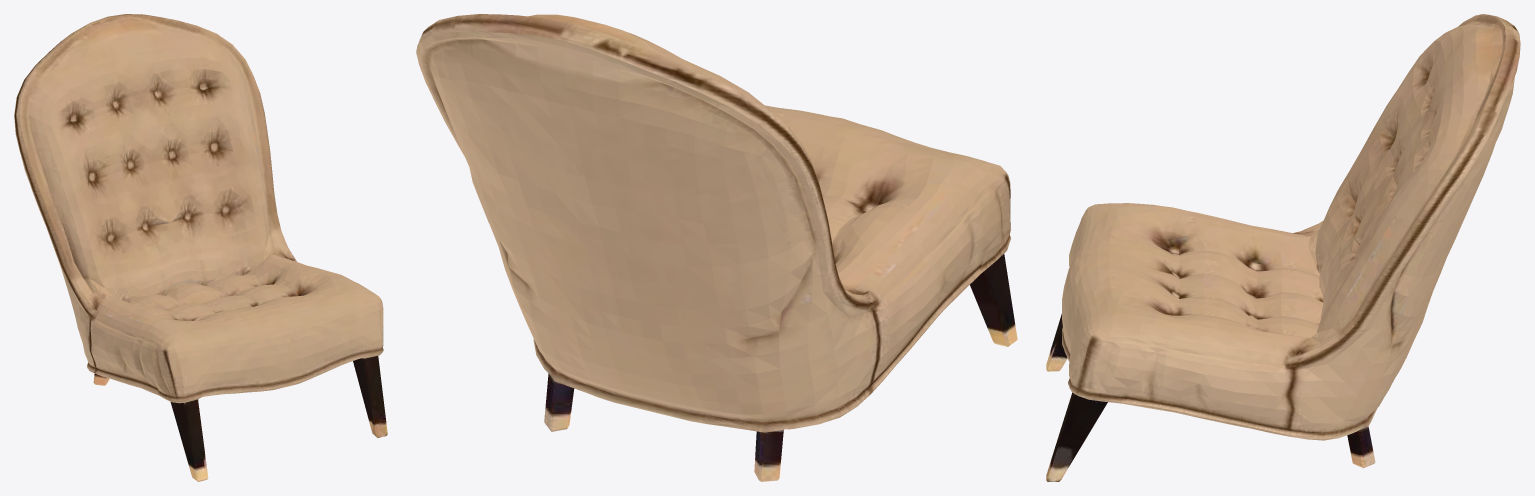
Rendered from ship_chair.glb.
3 views of the same model, side by side, from view 1: azimuth 30°, elevation 25°; view 2: azimuth 150°, elevation 25°; view 3: azimuth 270°, elevation 25° (orthographic). The views are drawn at different scales.
Visible parts, largest first — view 1: mesh_node; view 2: mesh_node; view 3: mesh_node.
Boxes of the visible parts, left/top/right/bottom form: mesh_node: left=14, top=14, right=387, bottom=481; mesh_node: left=416, top=14, right=1017, bottom=481; mesh_node: left=1046, top=14, right=1520, bottom=481.
Bounding box in the file's own units: 1.38 × 1.71 × 1.89.
1 material, 1 textured.
